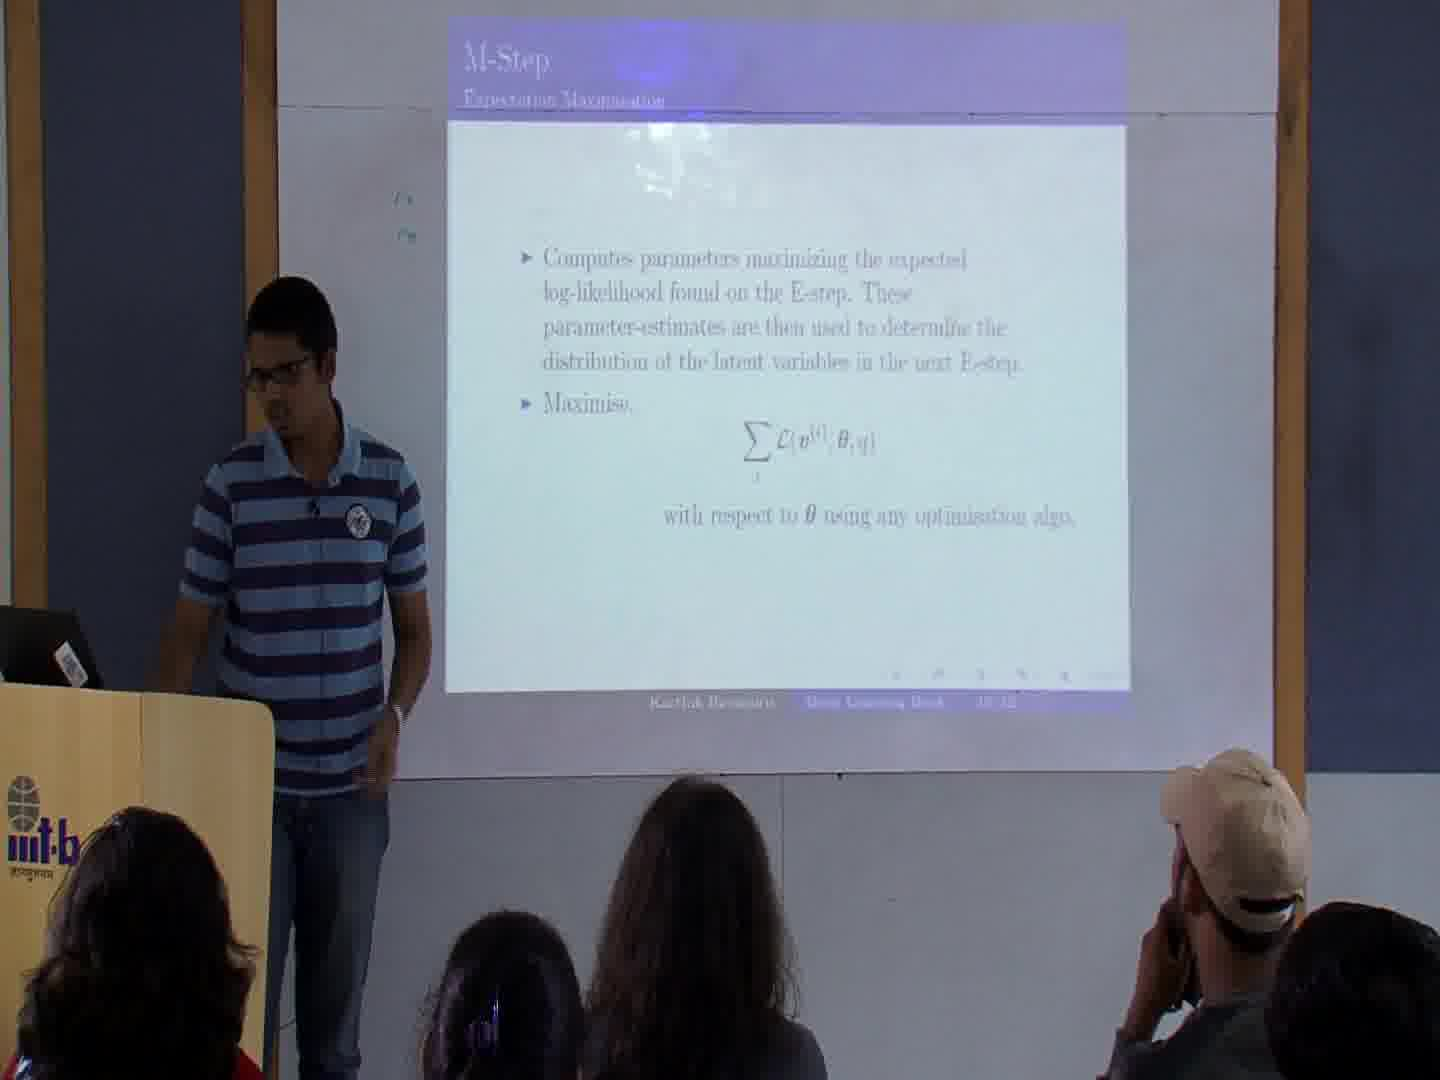slide: (446, 19, 1130, 717)
